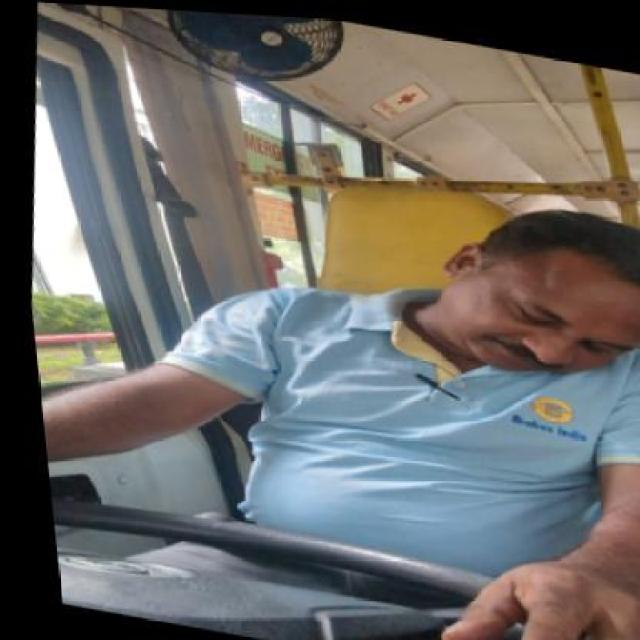Inattentive: (438, 204, 640, 389)
